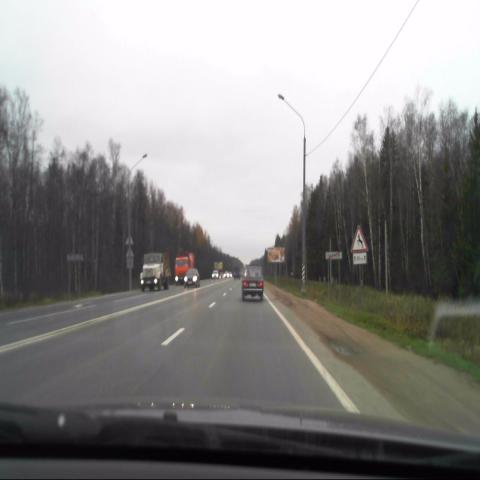1_27: (350, 226, 368, 252)
